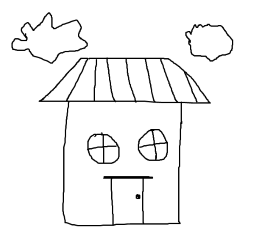closed_window: (137, 127, 168, 160), (87, 133, 120, 163)
clouds: (11, 10, 89, 64), (185, 22, 233, 62)
door: (99, 170, 156, 229)
roof: (39, 52, 212, 103)
wall: (59, 102, 187, 232)
